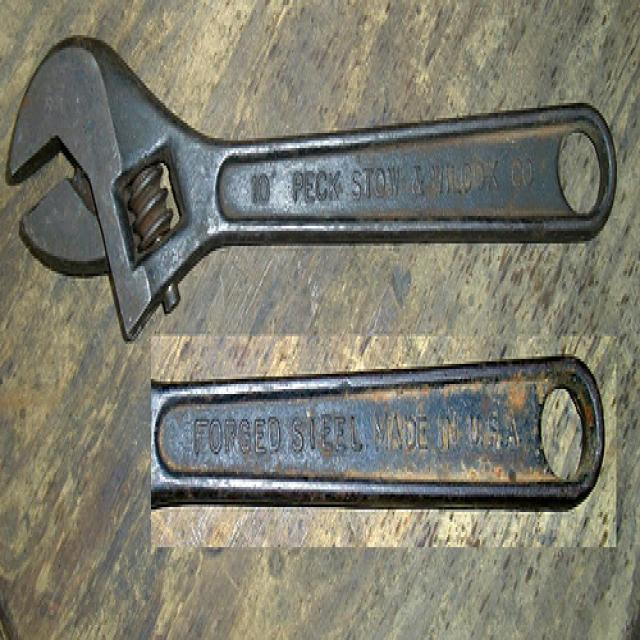wrench: (2, 28, 622, 344)
